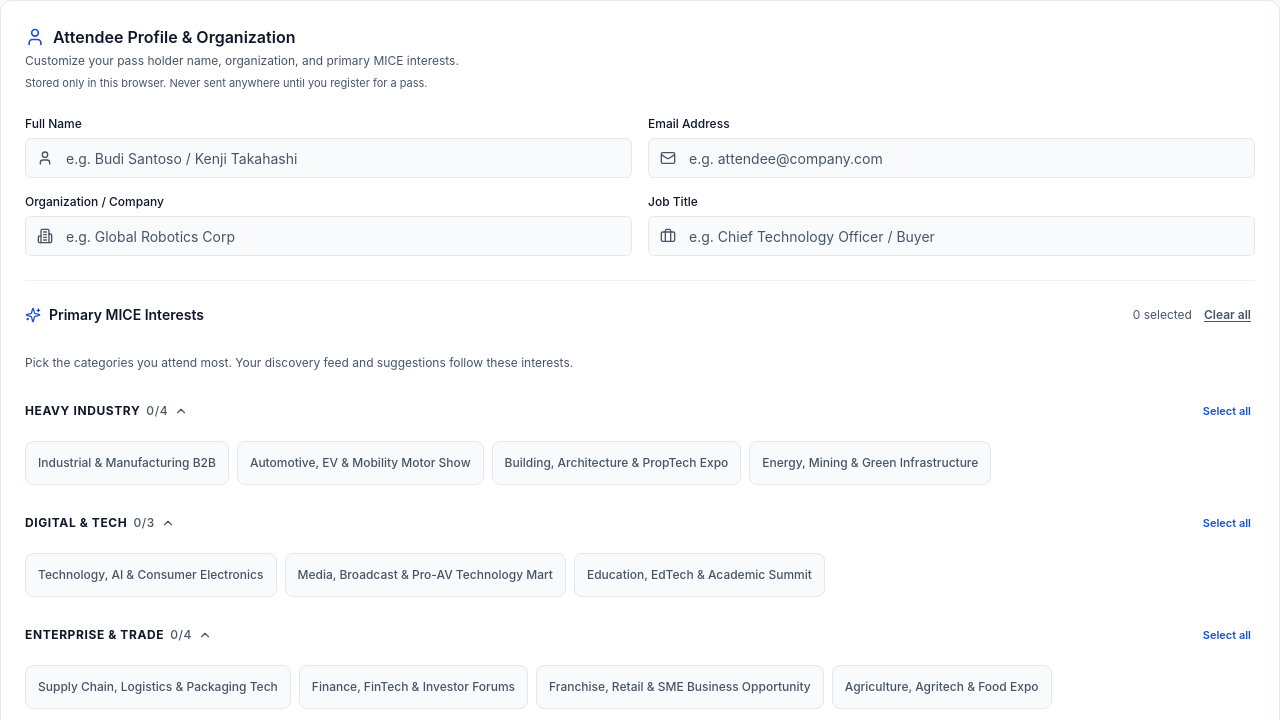
UI/UX Settings Suite Component Selectors › ProfileSettingsForm clears profile per-section without touching appearance
The width and height of the screenshot is (1280, 720).
Type "Airi Suzuki" into the field with placeholder "e.g. Budi Santoso / Kenji Takahashi" at coordinates (328, 158), box [25, 138, 632, 178]
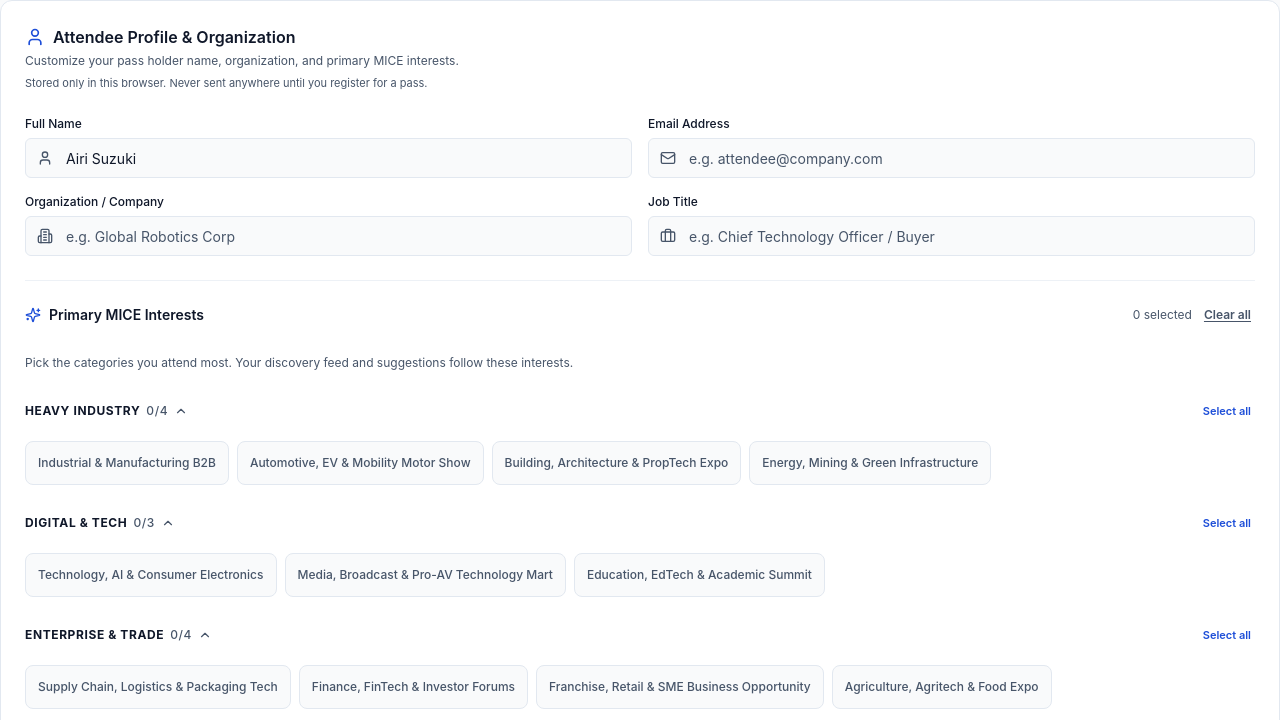
Type "airi@yokohama-expo.jp" into the field with placeholder "e.g. attendee@company.com" at coordinates (952, 158), box [648, 138, 1255, 178]
(page scrolled)
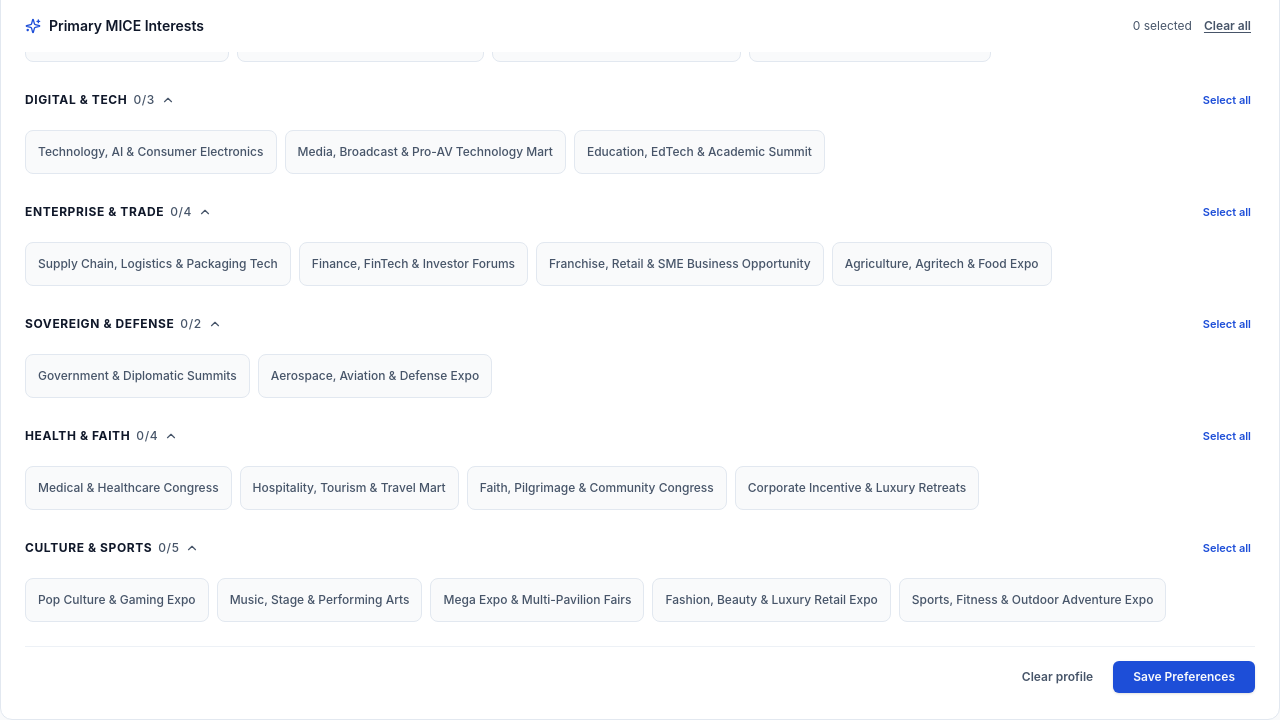
Click the button "Save Preferences" at coordinates (1184, 677), box [1113, 661, 1255, 693]
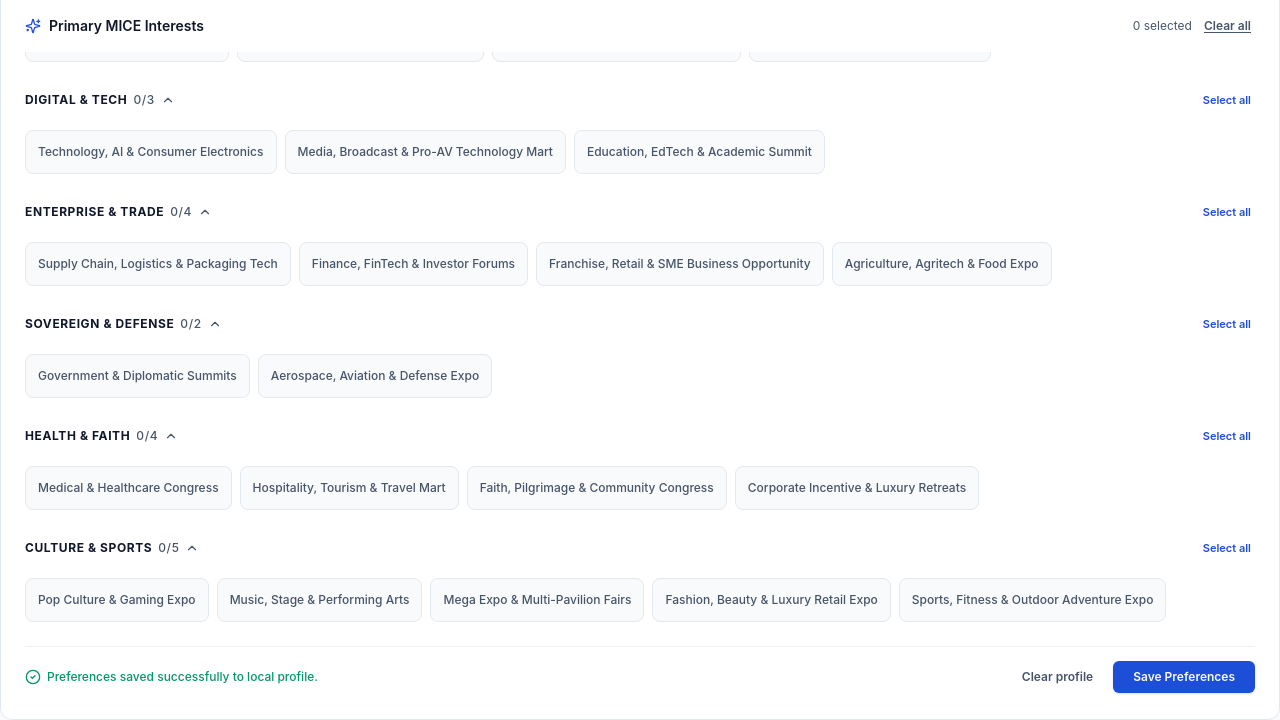
expect the text "Preferences saved successfully to local profile." is shown: met, box [47, 669, 318, 685]
Click the button "Clear profile" at coordinates (1058, 677), box [1010, 659, 1105, 695]
(page scrolled)
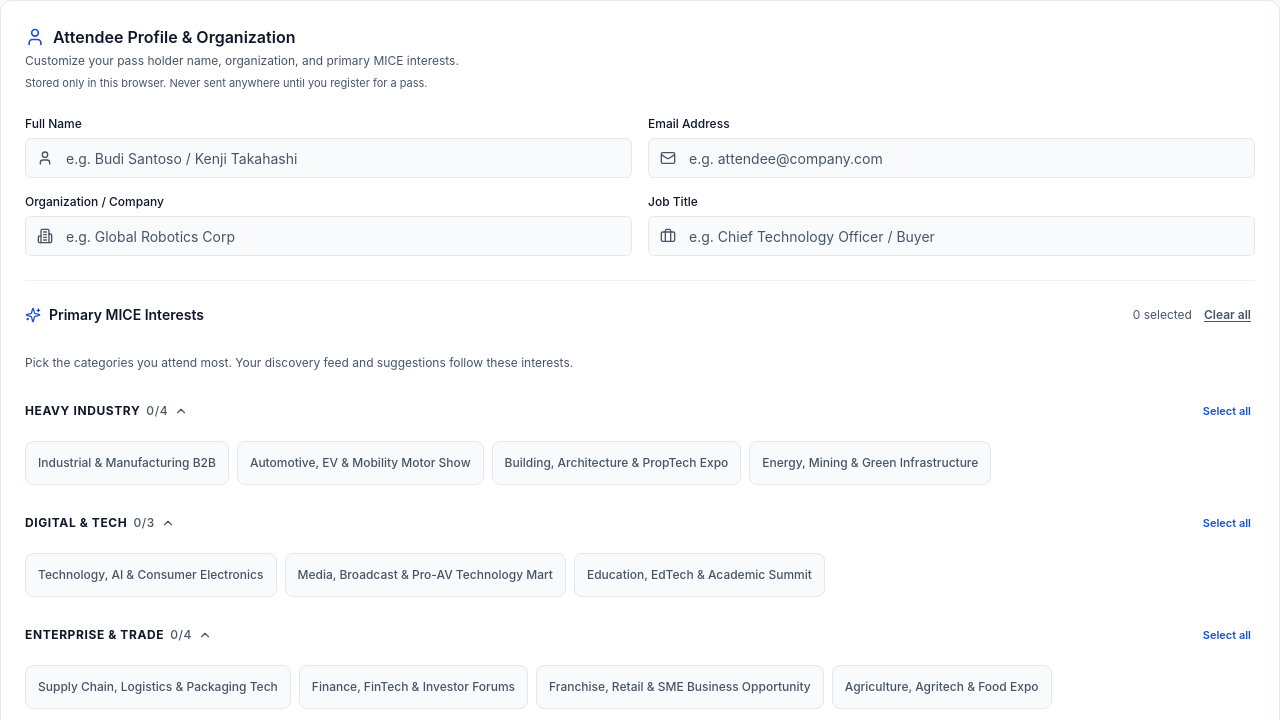
expect the field with placeholder "e.g. Budi Santoso / Kenji Takahashi" is empty: met, box [25, 138, 632, 178]
expect the field with placeholder "e.g. attendee@company.com" is empty: met, box [648, 138, 1255, 178]
